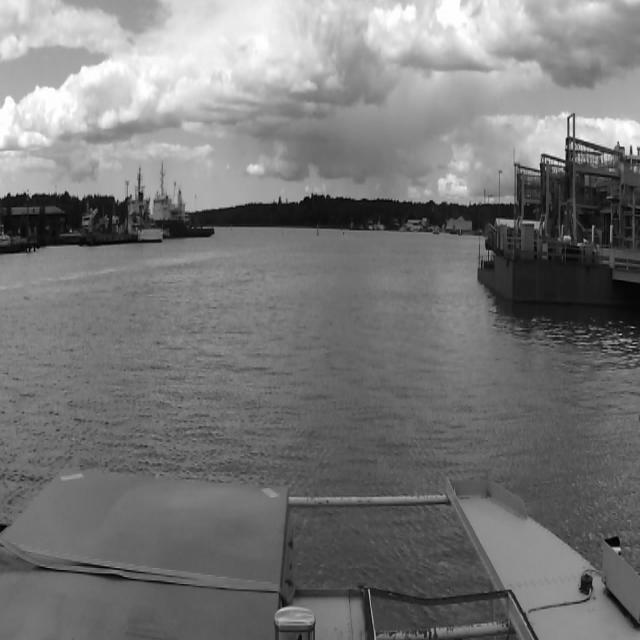buoy: (317, 225, 319, 235)
ship: (153, 162, 215, 240), (133, 168, 147, 242), (368, 220, 384, 230)
